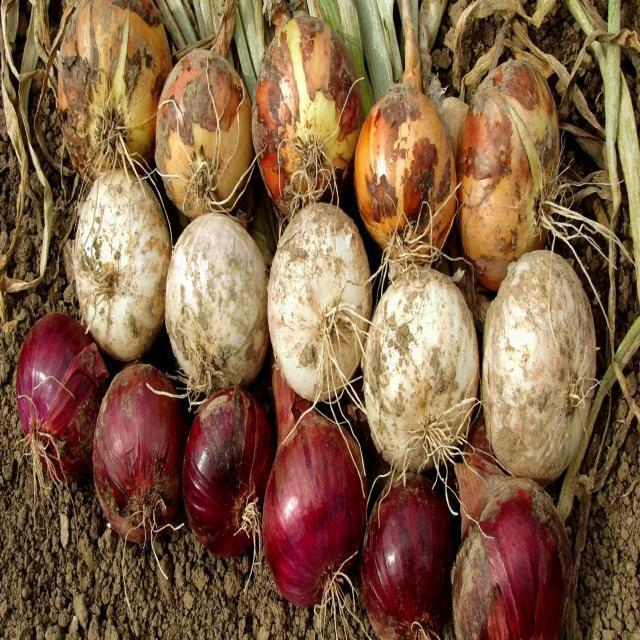Onion: (3, 0, 640, 516), (448, 54, 640, 341), (263, 369, 371, 640), (483, 252, 599, 480), (453, 447, 585, 640), (362, 265, 480, 474), (250, 18, 362, 216), (58, 6, 173, 185), (91, 364, 188, 575), (163, 215, 266, 406), (354, 89, 459, 273), (74, 170, 168, 359), (183, 384, 269, 568), (154, 49, 248, 214), (359, 482, 456, 640), (17, 315, 107, 480)
